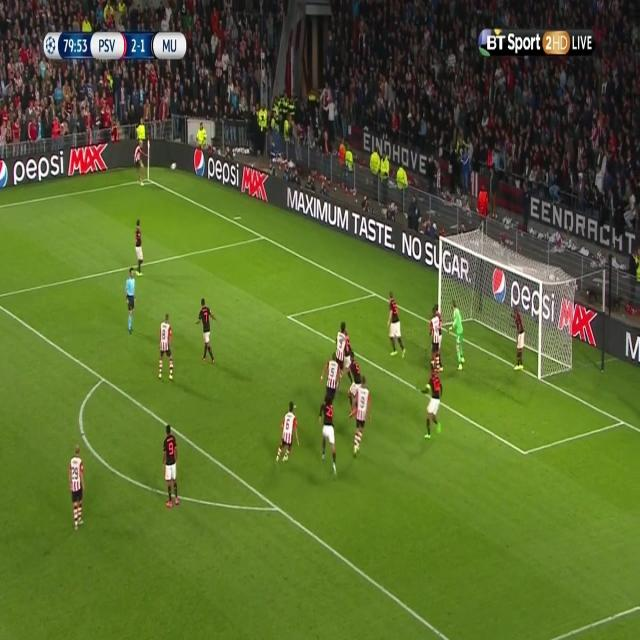Ball: (168, 159, 178, 175)
Goalkeeper: (447, 298, 469, 374)
Player: (416, 367, 444, 445), (160, 422, 182, 513), (274, 398, 302, 469), (350, 375, 372, 459), (318, 395, 340, 477), (384, 290, 409, 360), (195, 298, 219, 369), (69, 442, 86, 535), (157, 311, 175, 385), (510, 305, 527, 377), (320, 351, 342, 400), (346, 352, 361, 418), (131, 139, 149, 188), (133, 216, 146, 278), (429, 306, 441, 364), (335, 318, 348, 367)
Referee: (124, 267, 141, 337)
